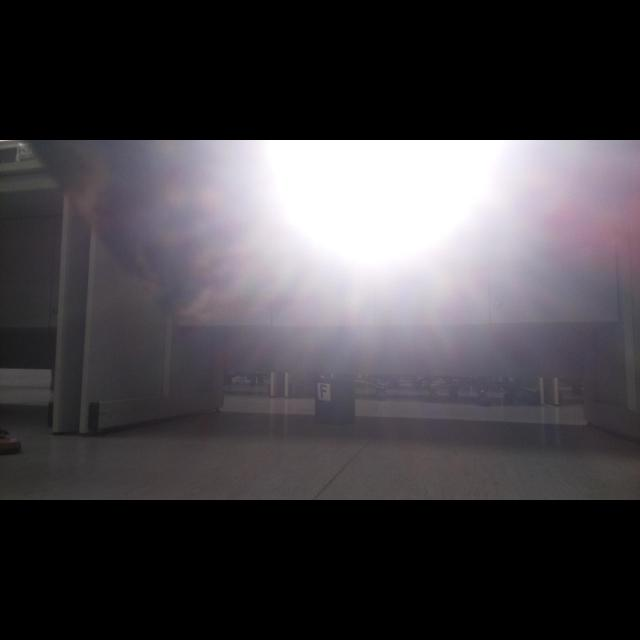F: (320, 385, 327, 399)
